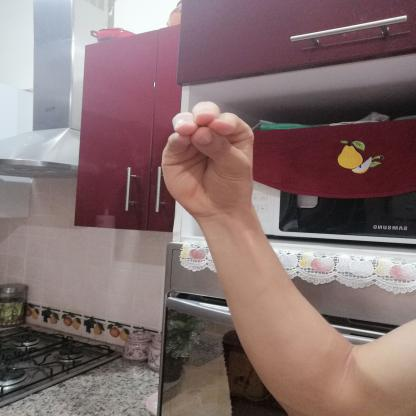HA: (143, 90, 281, 229)
